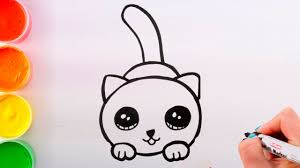cat: (90, 59, 215, 162)
